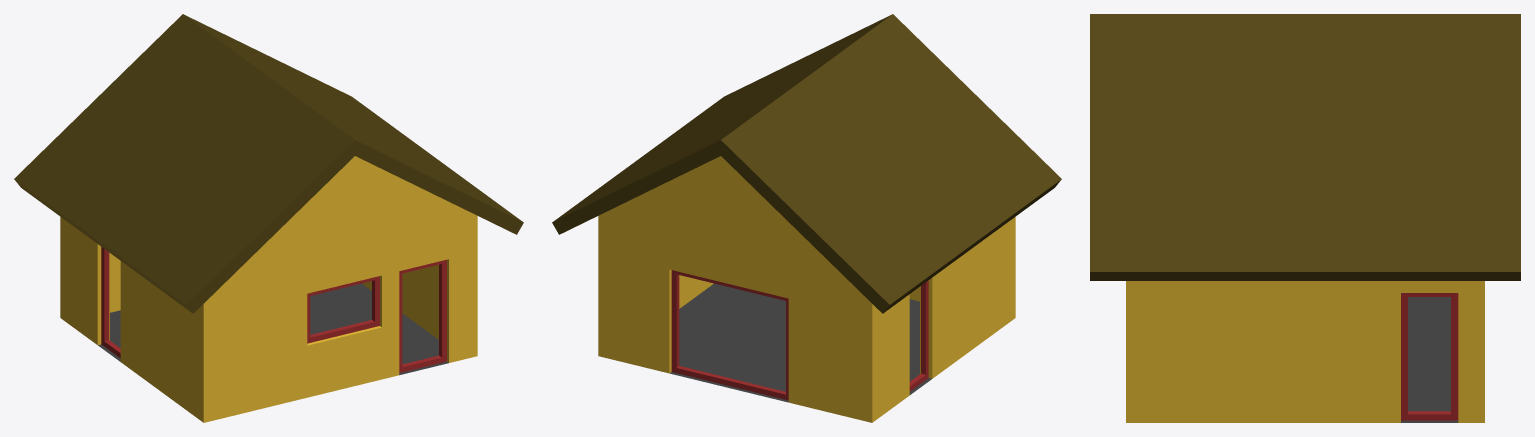
The model's file is result.dae.
3 renders of one model, left to right at view 1: azimuth 30°, elevation 25°; view 2: azimuth 150°, elevation 25°; view 3: azimuth 270°, elevation 25°, orthographic. The views are drawn at different scales.
Parts seen in each view (by area): view 1: a0da04f6-8d96-458e-bdb0-5ef0e259dc11__undefined (×5), 489d95c3-2ec2-4f90-8b8f-5a3c35ece091__undefined (×5), 88bb1055-d7e6-4569-8083-5d44e1825d41__Plane_6, 45419b8f-7246-44b0-a2d3-cb44f2568385__Box, a841ed92-7e42-4807-8596-68f7dc458d9c__Box_3, 6d5d0c34-5911-4431-880e-947bd3605387__Box_12 (×2); view 2: a0da04f6-8d96-458e-bdb0-5ef0e259dc11__undefined (×5), 489d95c3-2ec2-4f90-8b8f-5a3c35ece091__undefined (×4), 88bb1055-d7e6-4569-8083-5d44e1825d41__Plane_6, 1366ecc7-8fc7-44e8-80b0-753b76b02f1c__Box_9; view 3: a0da04f6-8d96-458e-bdb0-5ef0e259dc11__undefined (×2), 489d95c3-2ec2-4f90-8b8f-5a3c35ece091__undefined, 88bb1055-d7e6-4569-8083-5d44e1825d41__Plane_6, 8d680f84-2bab-48e8-b0fd-1f1b1a54ff10__Box_15.
Boxes of the visible parts, x1,y1,x2,y2 form: a0da04f6-8d96-458e-bdb0-5ef0e259dc11__undefined (×5): [14, 14, 523, 313]; 489d95c3-2ec2-4f90-8b8f-5a3c35ece091__undefined (×5): [60, 156, 477, 422]; 88bb1055-d7e6-4569-8083-5d44e1825d41__Plane_6: [98, 283, 448, 375]; 45419b8f-7246-44b0-a2d3-cb44f2568385__Box: [399, 259, 446, 372]; a841ed92-7e42-4807-8596-68f7dc458d9c__Box_3: [307, 276, 379, 343]; 6d5d0c34-5911-4431-880e-947bd3605387__Box_12 (×2): [101, 247, 120, 357]; a0da04f6-8d96-458e-bdb0-5ef0e259dc11__undefined (×5): [552, 14, 1061, 313]; 489d95c3-2ec2-4f90-8b8f-5a3c35ece091__undefined (×4): [598, 156, 1015, 422]; 88bb1055-d7e6-4569-8083-5d44e1825d41__Plane_6: [669, 283, 931, 402]; 1366ecc7-8fc7-44e8-80b0-753b76b02f1c__Box_9: [671, 270, 788, 400]; a0da04f6-8d96-458e-bdb0-5ef0e259dc11__undefined (×2): [1090, 14, 1520, 280]; 489d95c3-2ec2-4f90-8b8f-5a3c35ece091__undefined: [1126, 281, 1484, 422]; 88bb1055-d7e6-4569-8083-5d44e1825d41__Plane_6: [1401, 297, 1458, 422]; 8d680f84-2bab-48e8-b0fd-1f1b1a54ff10__Box_15: [1401, 293, 1458, 420].
Size of the model in its own units: 680 by 500 by 600.
